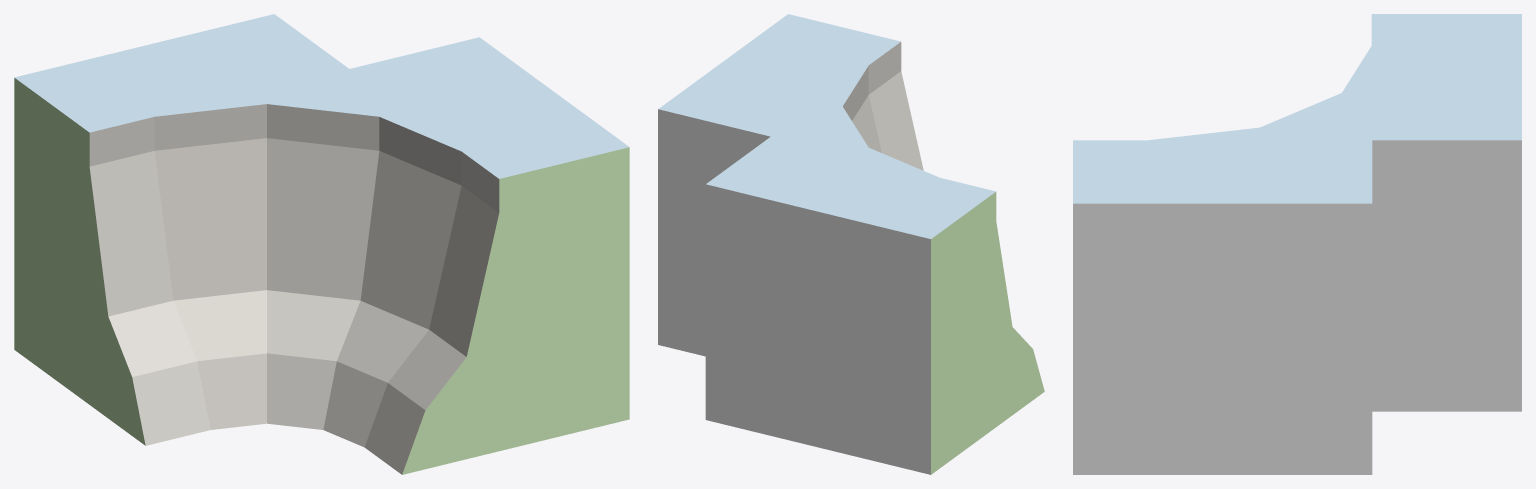
File: Wall_Curve_Inner_3x3_Base.glb
3 renders of one model, left to right at view 1: azimuth 30°, elevation 25°; view 2: azimuth 150°, elevation 25°; view 3: azimuth 270°, elevation 25°, orthographic. The views are drawn at different scales.
Visible parts, largest first — view 1: Wall_Curve_Inner_3x3_Base; view 2: Wall_Curve_Inner_3x3_Base; view 3: Wall_Curve_Inner_3x3_Base.
Boxes of the visible parts, <box> form: Wall_Curve_Inner_3x3_Base: <box>14,14,629,474</box>; Wall_Curve_Inner_3x3_Base: <box>658,14,1044,474</box>; Wall_Curve_Inner_3x3_Base: <box>1073,14,1521,474</box>.
Size of the model in its own units: 300 by 200 by 300.
